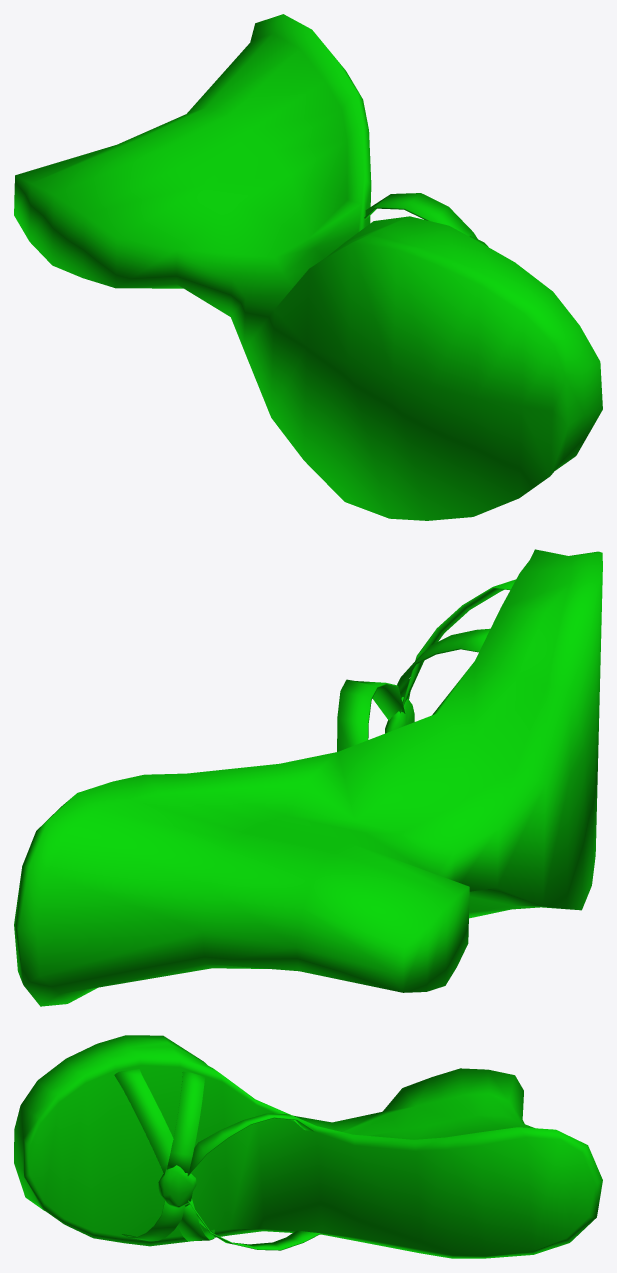
Rendered from shoe3_0.dae.
The picture shows the model from 3 angles, top to bottom: view 1: azimuth 30°, elevation 25°; view 2: azimuth 150°, elevation 25°; view 3: azimuth 270°, elevation 25°; orthographic projection. The views are drawn at different scales.
Visible parts, largest first — view 1: shoe3; view 2: shoe3; view 3: shoe3.
Part boxes in pixels (x1,y1,x2,y2): shoe3: (14, 14, 602, 520); shoe3: (14, 549, 602, 1006); shoe3: (14, 1035, 602, 1258).
Bounding box in the file's own units: 0.1426 × 0.3367 × 0.1204.
